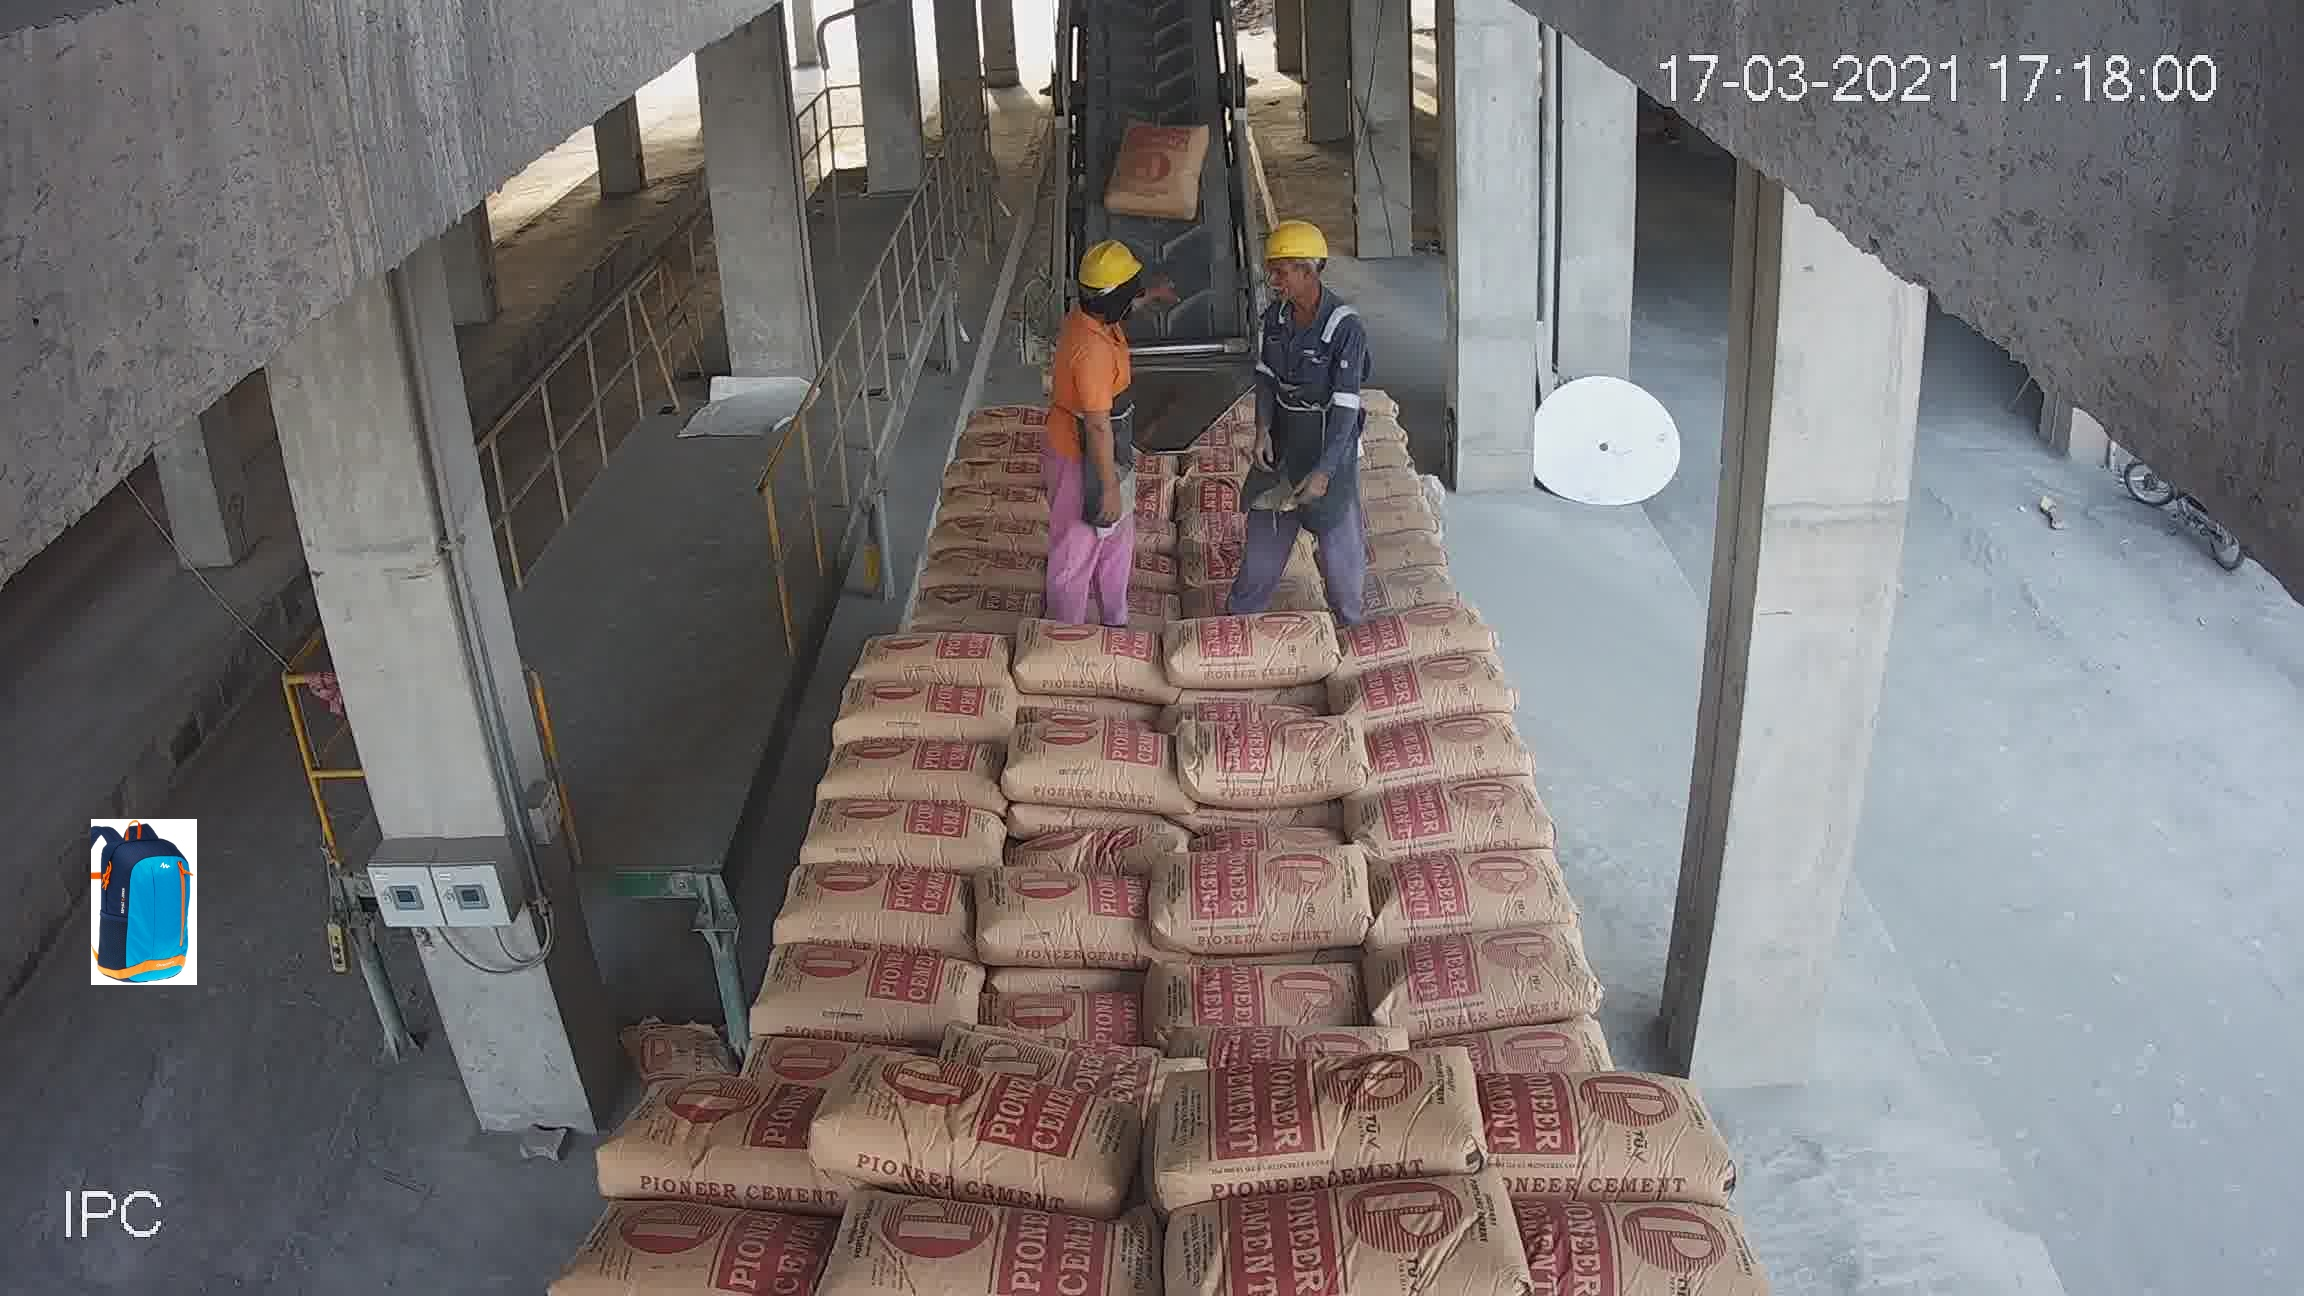bag: (1105, 123, 1206, 215)
bag_h: (1157, 1043, 1505, 1204), (802, 1059, 1146, 1207), (1165, 1176, 1505, 1290), (1476, 1082, 1734, 1222), (842, 1199, 1160, 1296), (592, 1081, 824, 1211), (1369, 916, 1606, 1036), (1508, 1187, 1761, 1291), (1155, 840, 1377, 956), (752, 940, 987, 1046), (562, 1204, 843, 1287), (1359, 848, 1571, 942), (769, 859, 975, 949), (1180, 718, 1364, 817), (1359, 779, 1556, 870), (1152, 957, 1359, 1036), (1010, 718, 1182, 812), (820, 729, 1014, 809), (799, 799, 1014, 870), (946, 1017, 1161, 1089), (972, 885, 1146, 968), (1328, 654, 1518, 725), (1021, 614, 1158, 711), (1180, 1013, 1419, 1067), (1169, 619, 1340, 693), (1453, 1011, 1611, 1089), (836, 676, 1019, 741), (1362, 714, 1529, 783), (989, 980, 1152, 1048), (1013, 820, 1182, 881), (1340, 609, 1494, 673), (866, 622, 1011, 688), (1182, 570, 1310, 631), (916, 544, 1041, 598), (927, 475, 1051, 522), (919, 514, 1052, 557), (897, 585, 1032, 627), (934, 445, 1041, 495), (1359, 567, 1465, 616), (1366, 525, 1442, 579), (956, 394, 1032, 432), (945, 427, 1040, 457)
belt: (1043, 36, 1291, 456), (1051, 52, 1255, 448)
